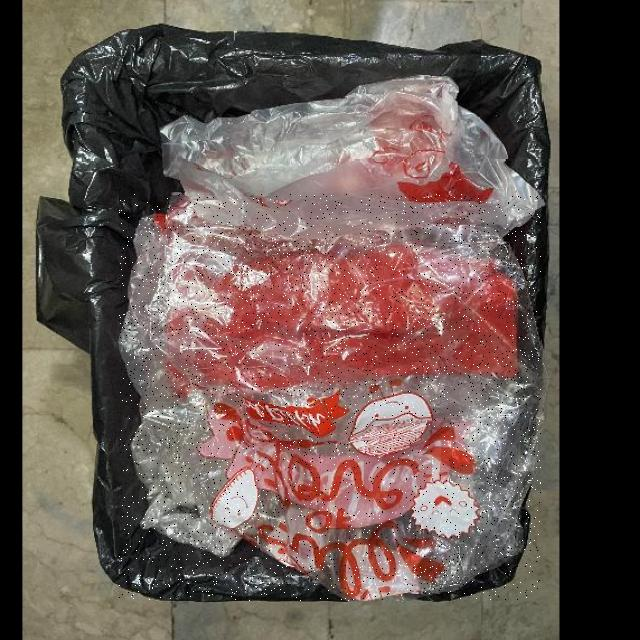plastic: (120, 194, 541, 601), (160, 74, 543, 256)
